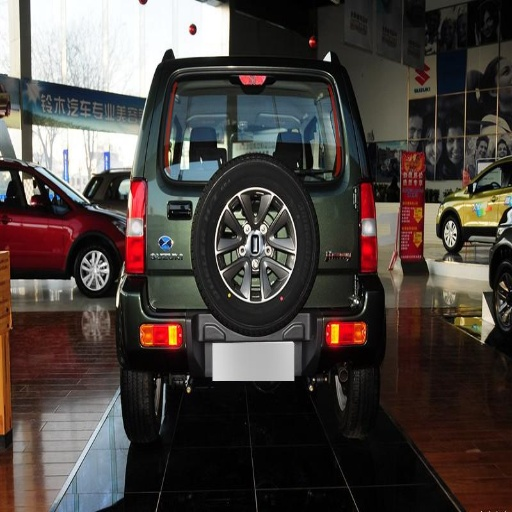trunk: (168, 92, 230, 222)
